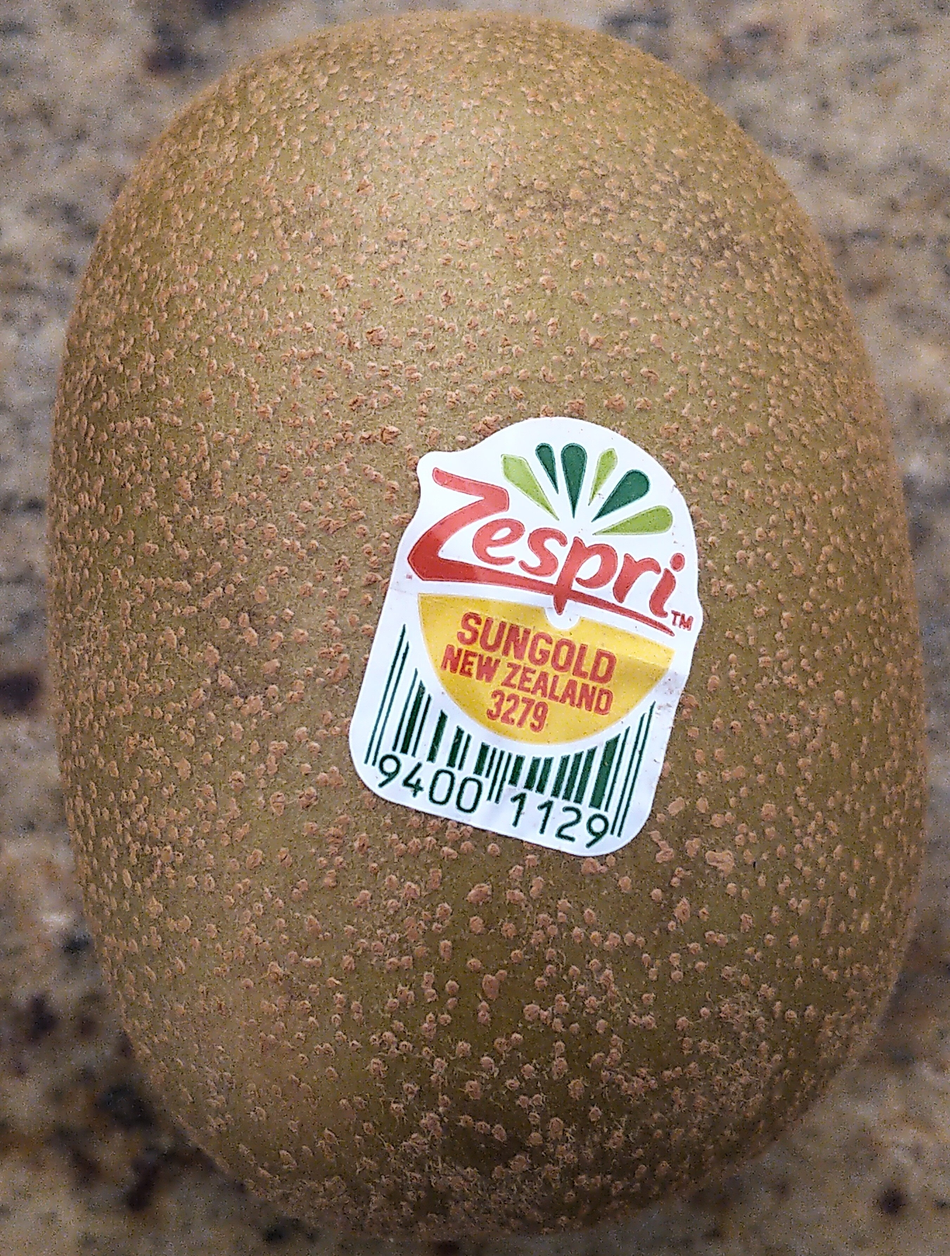Sungold Kiwi: (47, 63, 902, 1193)
